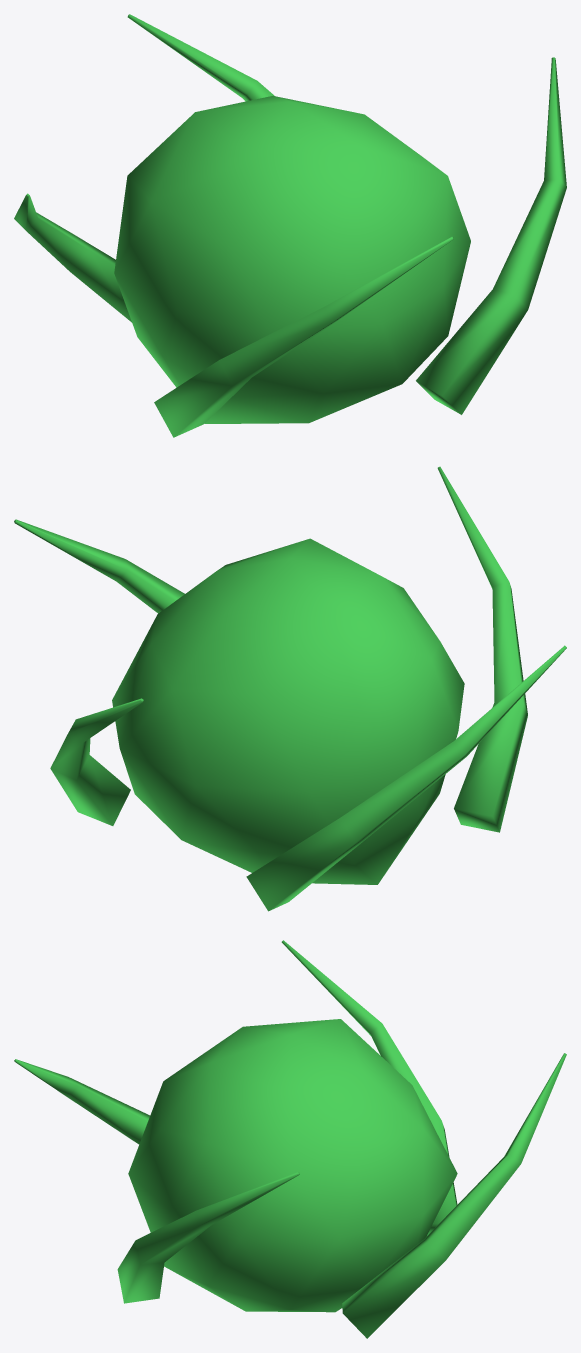
The model's file is soul_of_sight.glb.
3 views of the same model, one above another, from view 1: azimuth 30°, elevation 25°; view 2: azimuth 150°, elevation 25°; view 3: azimuth 270°, elevation 25° (orthographic). The views are drawn at different scales.
Visible parts, largest first — view 1: soul_of_sight_v0; view 2: soul_of_sight_v0; view 3: soul_of_sight_v0.
Part boxes in pixels (x1,y1,x2,y2): soul_of_sight_v0: [14, 14, 566, 437]; soul_of_sight_v0: [14, 466, 566, 911]; soul_of_sight_v0: [14, 940, 566, 1338].
Bounding box in the file's own units: 0.3016 × 0.1656 × 0.3016.
